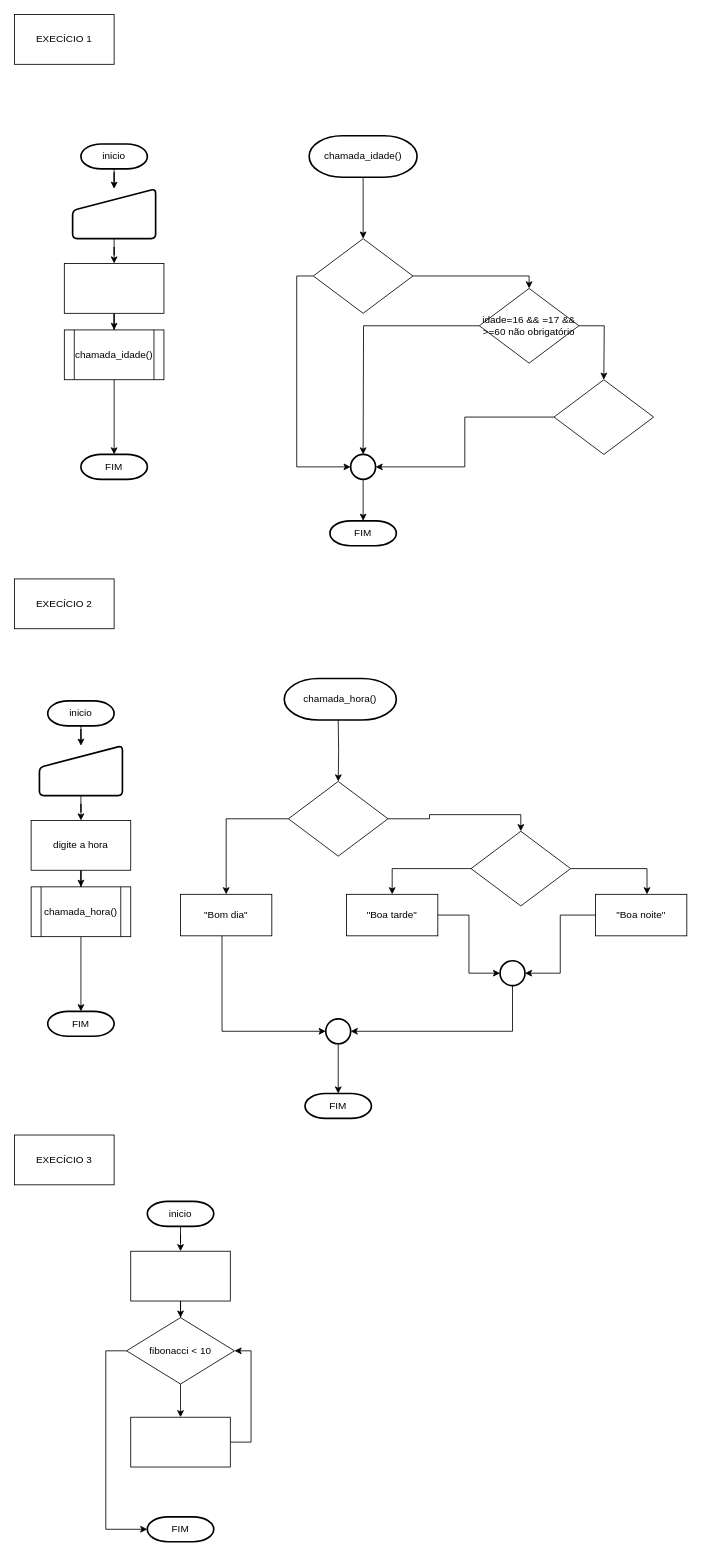
The diagram is 701 pixels wide and 1557 high, and some of its shapes have lost their labels. The shapes that lost their labels are listed below. From the top down, each one's box as (x1, y1, x2, y2) in pixels, then its label:
(71, 188, 156, 239): idade
(63, 263, 164, 313): digite a idade
(312, 238, 413, 313): idade<=15 não vota
(553, 379, 654, 454): idade >=18 &&<=59 Obrigatório
(38, 745, 123, 796): hora
(288, 781, 388, 856): hora >=5 && hora < 12 dia
(470, 830, 571, 906): hora >=12 && hora < 18 tarde
(130, 1250, 230, 1301): (fibonacci) =[0, 1]
(130, 1416, 230, 1467): fibonacci = fibonacci [-1] + fibonacci
